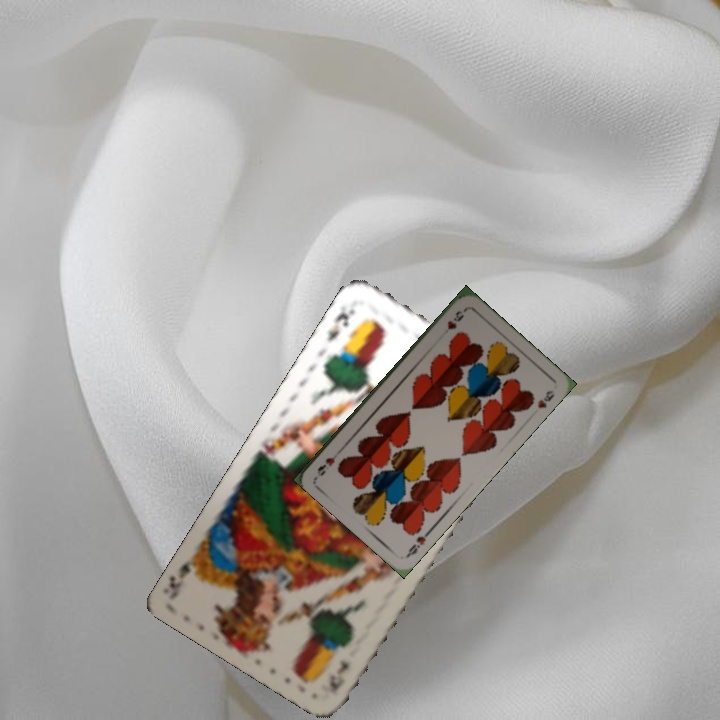EK: (322, 305, 358, 345), (325, 658, 352, 696)
H9: (402, 526, 434, 560), (443, 305, 469, 332)
